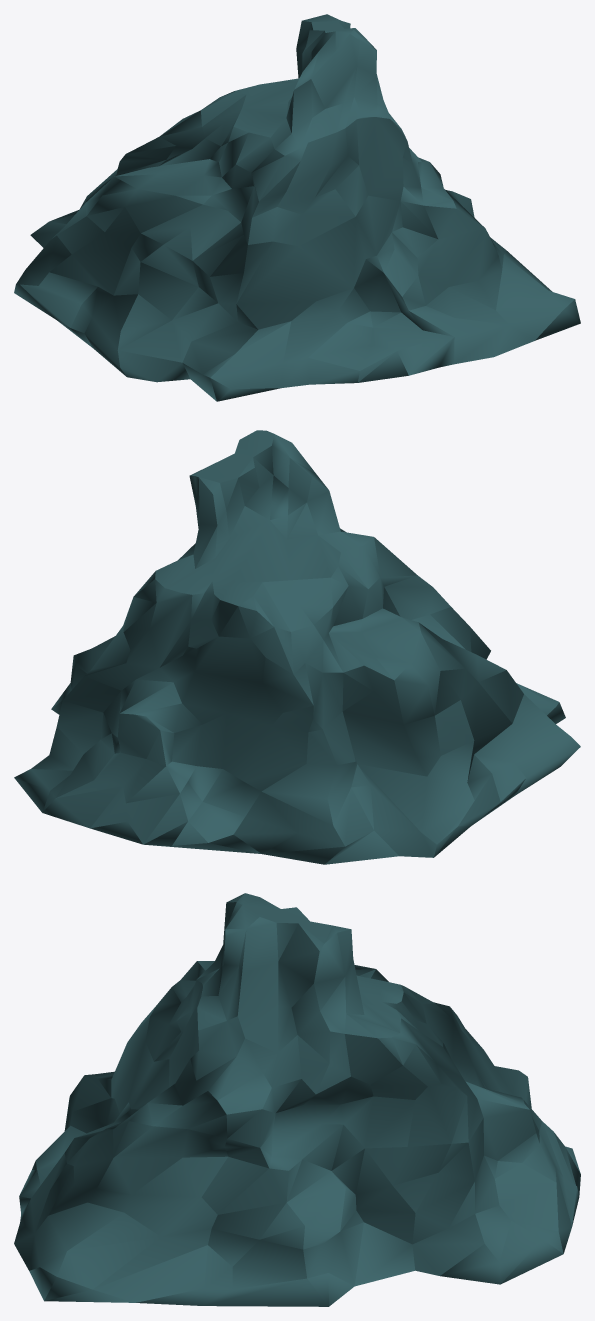
File: M_RockMountain.fbx
The picture shows the model from 3 angles, top to bottom: view 1: azimuth 30°, elevation 25°; view 2: azimuth 150°, elevation 25°; view 3: azimuth 270°, elevation 25°; orthographic projection. The views are drawn at different scales.
Parts seen in each view (by area): view 1: rockmountain; view 2: rockmountain; view 3: rockmountain.
Boxes of the visible parts, x1,y1,x2,y2 form: rockmountain: (14,14,580,401); rockmountain: (14,430,580,864); rockmountain: (14,893,580,1306).
Size of the model in its own units: 77.26 by 47.39 by 77.
